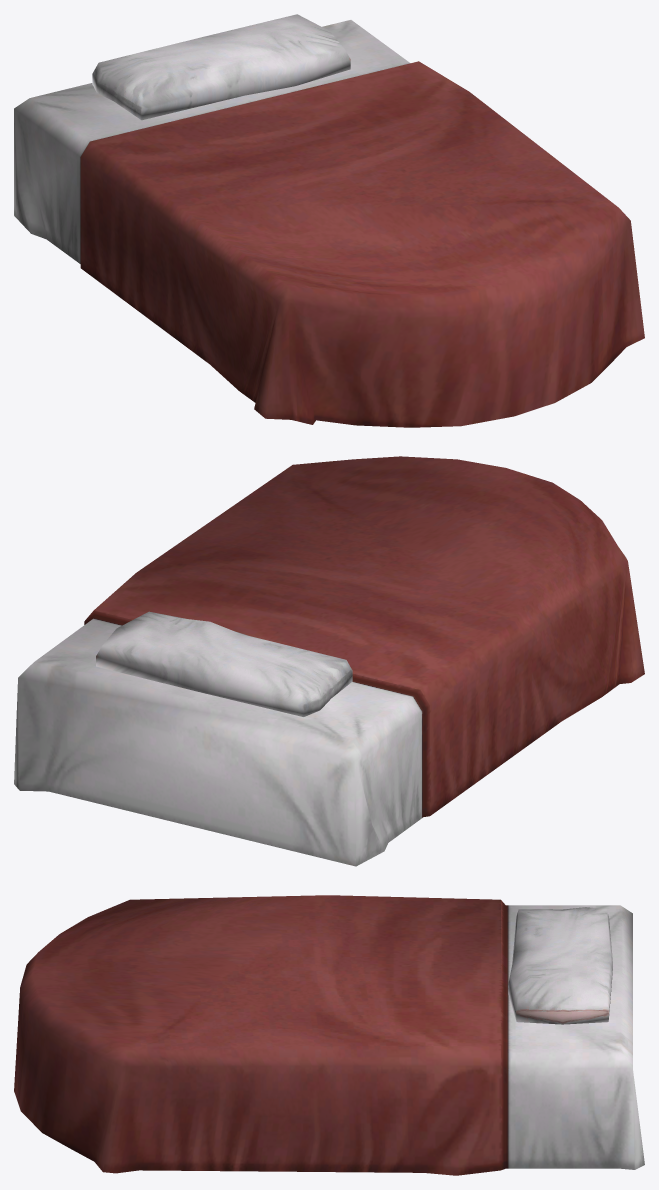
The model's file is frn_all_bed_sm_s1_l0.fbx.
3 renders of one model, top to bottom at view 1: azimuth 30°, elevation 25°; view 2: azimuth 150°, elevation 25°; view 3: azimuth 270°, elevation 25°, orthographic. The views are drawn at different scales.
Parts seen in each view (by area): view 1: mesh_node; view 2: mesh_node; view 3: mesh_node.
Boxes of the visible parts, bbox=[...] form: mesh_node: bbox=[14, 14, 644, 427]; mesh_node: bbox=[14, 456, 644, 866]; mesh_node: bbox=[14, 895, 644, 1175].
Bounding box in the file's own units: 1.29 × 0.5121 × 2.02.
